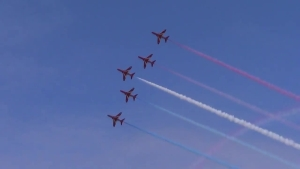flight: (119, 87, 139, 103), (151, 29, 170, 45), (117, 65, 136, 81), (107, 111, 126, 127), (138, 53, 156, 69)
